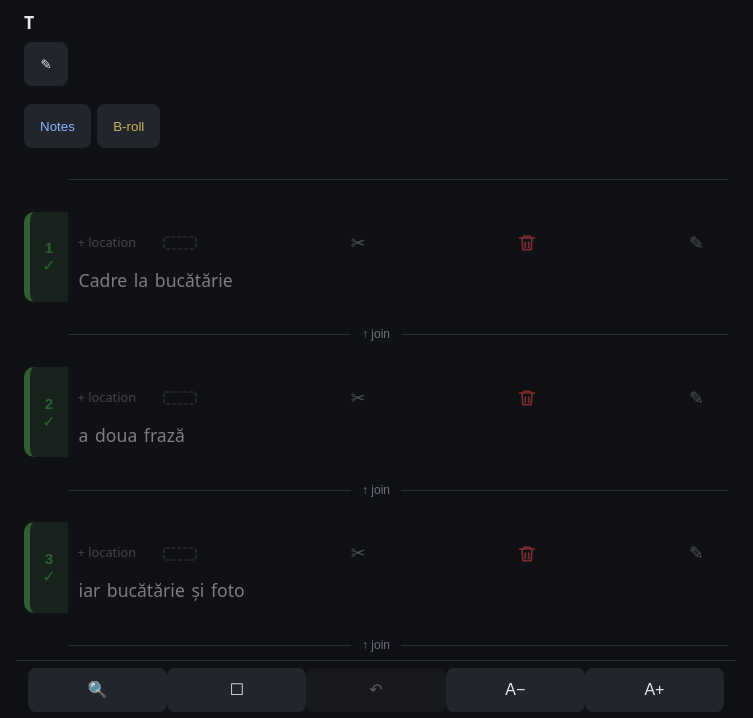
Test: unchecked-only filter › says when everything is checked
The width and height of the screenshot is (753, 718).
Click the button named "Show only unchecked cards".
click(237, 690)  # box [167, 668, 306, 712]
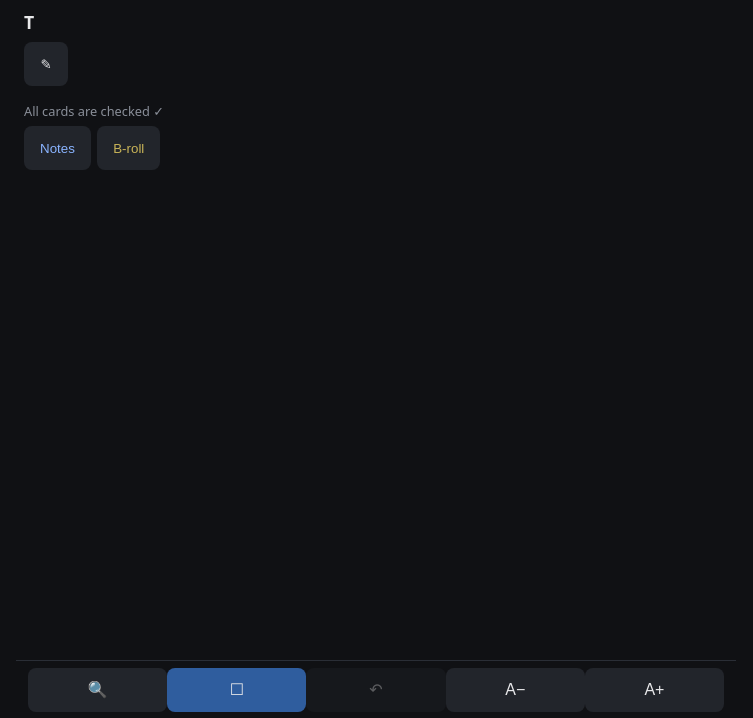
Result: the text "All cards are checked ✓" is shown at [24, 102, 164, 120]
